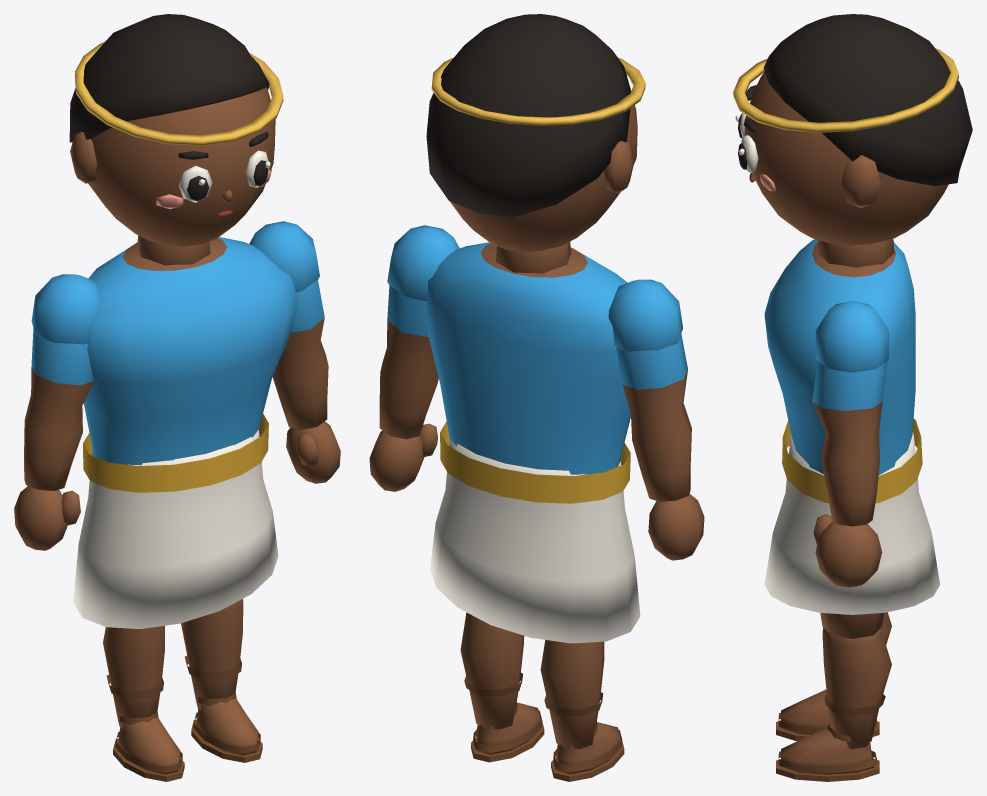
Rendered from marathon.glb.
The picture shows the model from 3 angles, left to right: view 1: azimuth 30°, elevation 25°; view 2: azimuth 150°, elevation 25°; view 3: azimuth 270°, elevation 25°; orthographic projection. The views are drawn at different scales.
Visible parts, largest first — view 1: rumpf, huefte, kopf, armL, haare, armR, knieL, knieR, kopfschmuck, augeL, augeR; view 2: rumpf, haare, huefte, armL, armR, kopf, knieL, knieR, kopfschmuck; view 3: haare, rumpf, armR, kopf, huefte, knieR, kopfschmuck, knieL, beinR, augeR.
Boxes of the visible parts, x1,y1,x2,y2 form: rumpf: (83, 237, 298, 492); huefte: (73, 430, 278, 628); kopf: (70, 87, 275, 265); armL: (14, 274, 102, 550); haare: (69, 14, 269, 142); armR: (249, 221, 340, 483); knieL: (103, 625, 184, 781); knieR: (181, 599, 262, 762); kopfschmuck: (74, 42, 283, 145); augeL: (178, 165, 212, 202); augeR: (245, 150, 270, 187); rumpf: (426, 242, 630, 503); haare: (426, 14, 631, 216); huefte: (430, 439, 640, 643); armL: (608, 279, 704, 560); armR: (369, 225, 459, 491); kopf: (427, 105, 637, 273); knieL: (540, 640, 624, 781); knieR: (460, 612, 544, 762); kopfschmuck: (431, 57, 645, 125); haare: (763, 14, 972, 186); rumpf: (764, 239, 922, 503); armR: (812, 300, 888, 587); kopf: (744, 71, 948, 267); huefte: (764, 432, 939, 614); knieR: (776, 627, 891, 781); kopfschmuck: (733, 48, 958, 132); knieL: (776, 612, 891, 740); beinR: (820, 613, 884, 638); augeR: (738, 135, 758, 172).
Bounding box in the file's own units: 1.05 × 2.29 × 0.6819.
